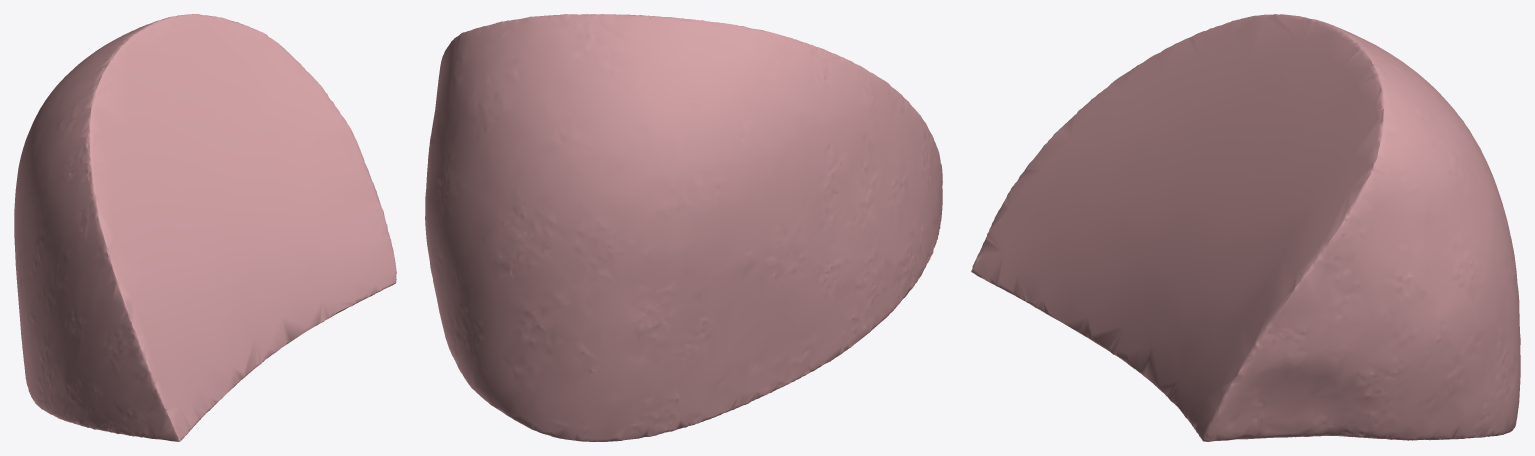
File: fma15746_fj2823.glb
The picture shows the model from 3 angles, left to right: view 1: azimuth 30°, elevation 25°; view 2: azimuth 150°, elevation 25°; view 3: azimuth 270°, elevation 25°; orthographic projection. The views are drawn at different scales.
Parts seen in each view (by area): view 1: FMA15746_FJ2823; view 2: FMA15746_FJ2823; view 3: FMA15746_FJ2823.
Boxes of the visible parts, x1,y1,x2,y2 form: FMA15746_FJ2823: [14, 14, 396, 441]; FMA15746_FJ2823: [425, 14, 942, 441]; FMA15746_FJ2823: [971, 14, 1520, 441].
Size of the model in its own units: 0.0949 by 0.0847 by 0.1085.
